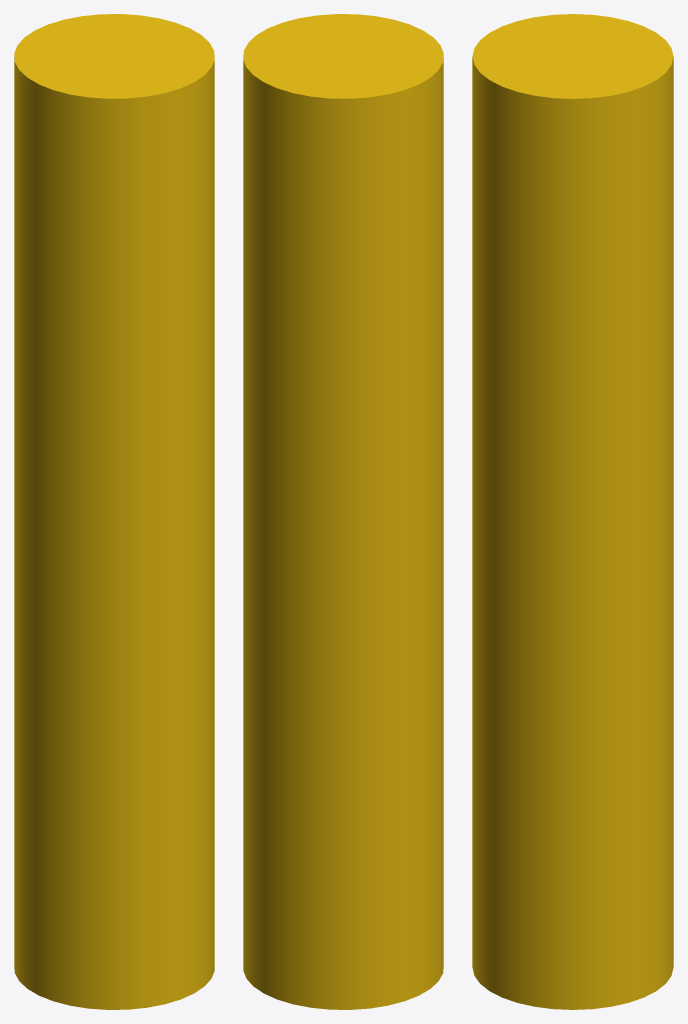
File: pillar.glb
3 renders of one model, left to right at view 1: azimuth 30°, elevation 25°; view 2: azimuth 150°, elevation 25°; view 3: azimuth 270°, elevation 25°, orthographic.
Parts seen in each view (by area): view 1: pillar; view 2: pillar; view 3: pillar.
Boxes of the visible parts, <box> form: pillar: <box>14,14,214,1009</box>; pillar: <box>243,14,443,1009</box>; pillar: <box>472,14,673,1009</box>.
Size of the model in its own units: 0.6 by 3 by 0.6.
